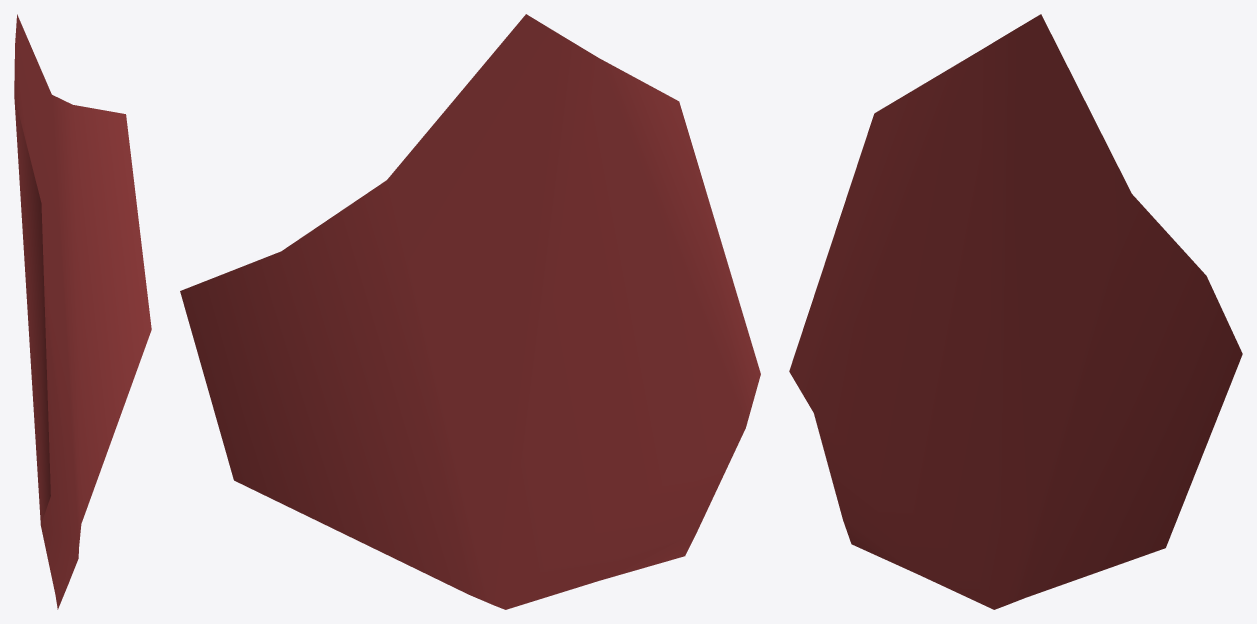
Rendered from extensor-pollicis-brevis-er.glb.
3 views of the same model, side by side, from view 1: azimuth 30°, elevation 25°; view 2: azimuth 150°, elevation 25°; view 3: azimuth 270°, elevation 25° (orthographic). The views are drawn at different scales.
Visible parts, largest first — view 1: Extensor pollicis brevis.er; view 2: Extensor pollicis brevis.er; view 3: Extensor pollicis brevis.er.
Part boxes in pixels (x1,y1,x2,y2): Extensor pollicis brevis.er: (14,14,151,609); Extensor pollicis brevis.er: (180,14,760,609); Extensor pollicis brevis.er: (789,14,1242,609).
Bounding box in the file's own units: 0.00373 × 0.00667 × 0.00477.
